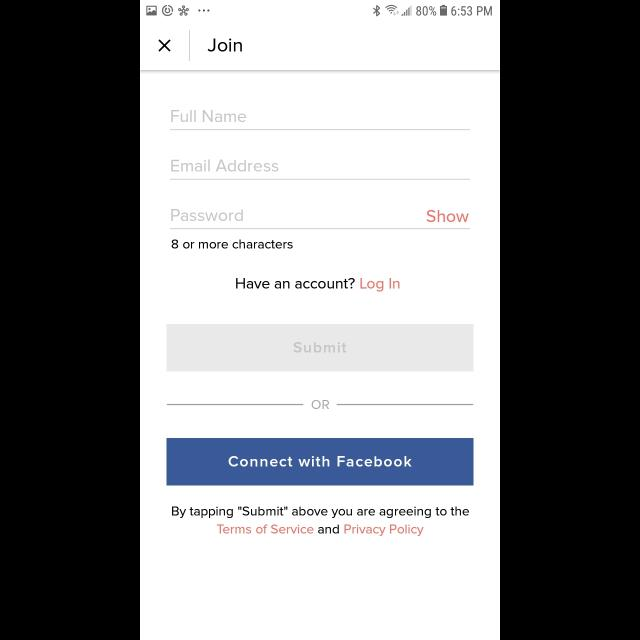icon: (158, 40, 172, 52)
input: (170, 208, 470, 230), (170, 110, 470, 130), (170, 160, 470, 180)
text: (172, 506, 470, 536), (236, 278, 400, 292), (172, 160, 278, 172), (172, 239, 292, 249), (172, 110, 246, 122), (172, 210, 244, 222), (208, 39, 244, 53), (427, 210, 469, 222), (312, 399, 330, 409)
textbutton: (166, 438, 474, 486), (166, 324, 474, 372)
uppertaskbar: (140, 1, 500, 17)
